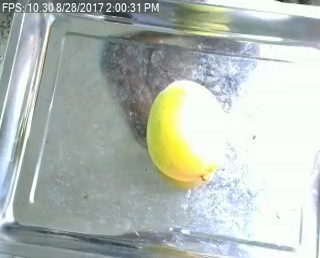Mango: (146, 81, 224, 180)
